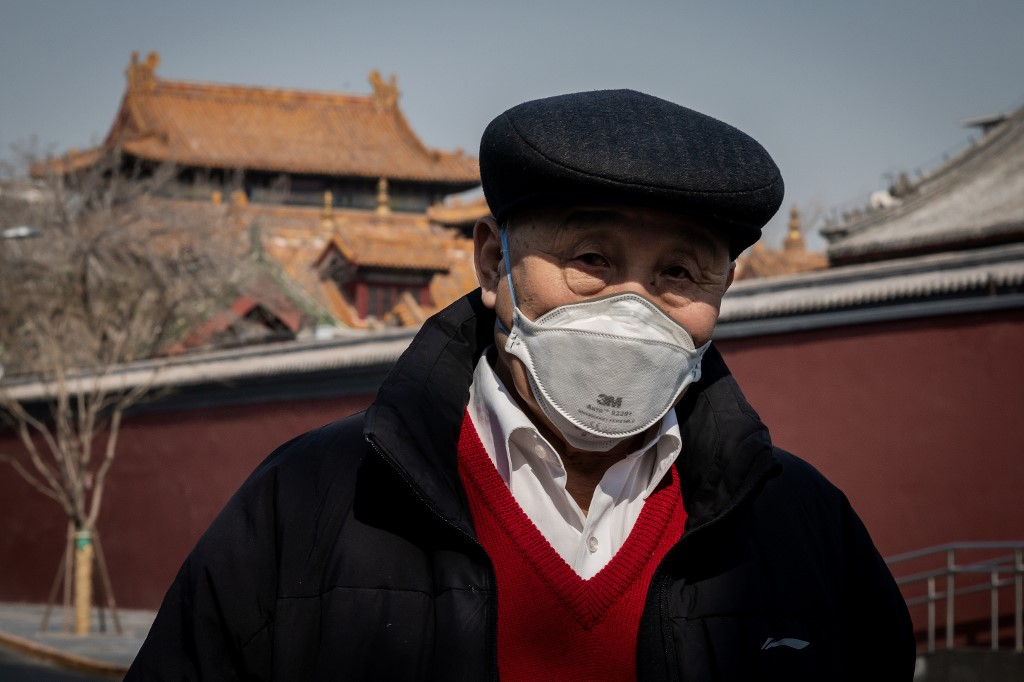n95: (503, 288, 712, 454)
